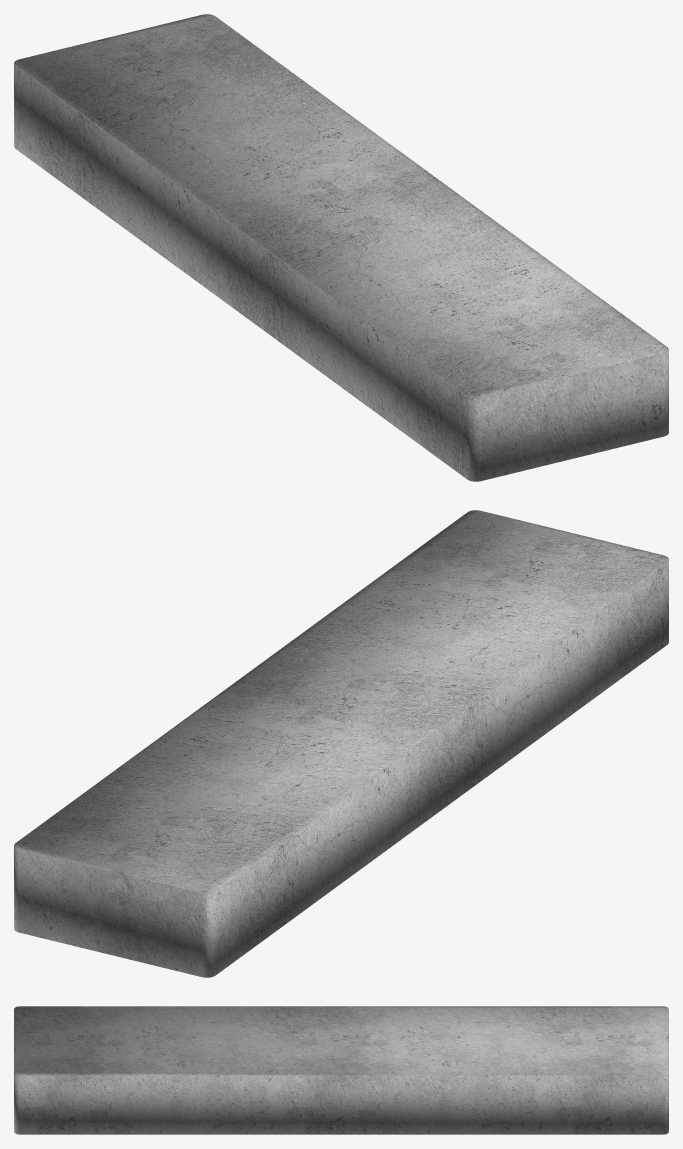
Rendered from lamp.glb.
3 views of the same model, one above another, from view 1: azimuth 30°, elevation 25°; view 2: azimuth 150°, elevation 25°; view 3: azimuth 270°, elevation 25° (orthographic). The views are drawn at different scales.
Parts seen in each view (by area): view 1: Cube; view 2: Cube; view 3: Cube.
Part boxes in pixels (left/top/right/bottom): Cube: left=14, top=14, right=668, bottom=481; Cube: left=14, top=510, right=668, bottom=977; Cube: left=14, top=1006, right=668, bottom=1134.
Size of the model in its own units: 1 by 0.4 by 4.
Materials: 3 (2 with a texture image).
